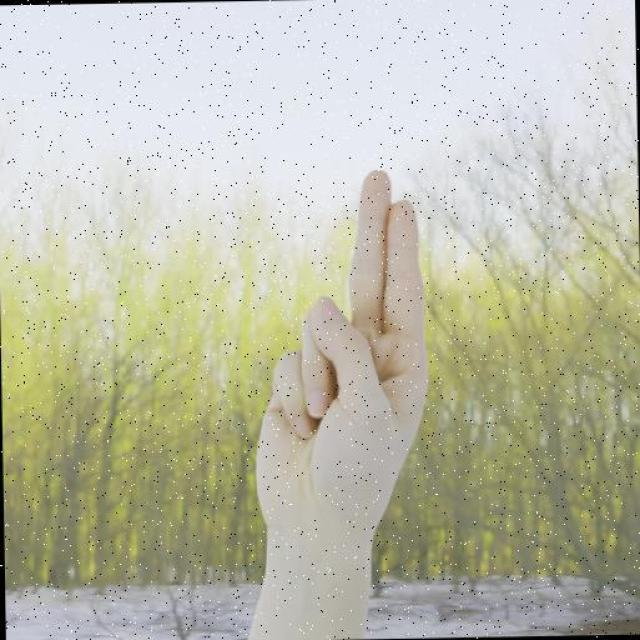U: (245, 168, 436, 537)
